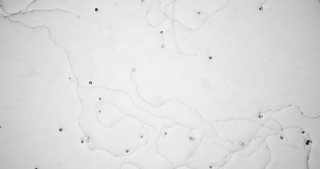germinated: (159, 37, 168, 50), (129, 64, 137, 78), (256, 0, 265, 10), (278, 129, 286, 139), (256, 110, 264, 119), (238, 139, 245, 148), (85, 138, 91, 148)
nongerminated: (195, 8, 202, 16), (92, 5, 100, 12), (56, 126, 64, 133), (138, 132, 145, 139), (207, 164, 216, 169), (207, 54, 214, 60), (87, 79, 93, 86), (300, 128, 306, 135), (305, 139, 311, 146), (97, 108, 104, 114), (158, 29, 164, 34), (163, 130, 168, 136), (123, 148, 129, 153), (97, 95, 102, 101), (187, 134, 192, 139)
